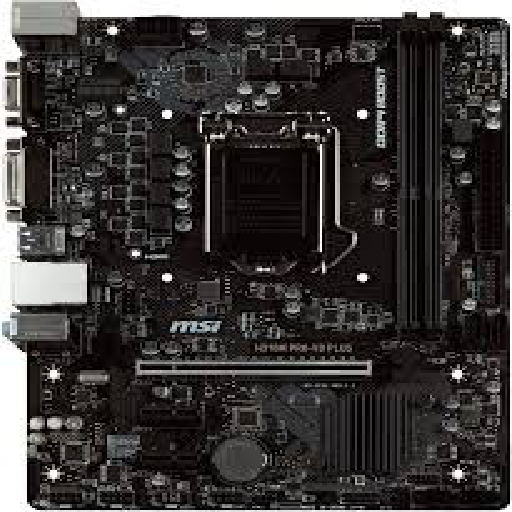CPU: (198, 107, 338, 277)
GPU: (131, 357, 394, 385)
MOTHERBOARD: (5, 7, 512, 510)
RAM: (387, 11, 453, 338)
